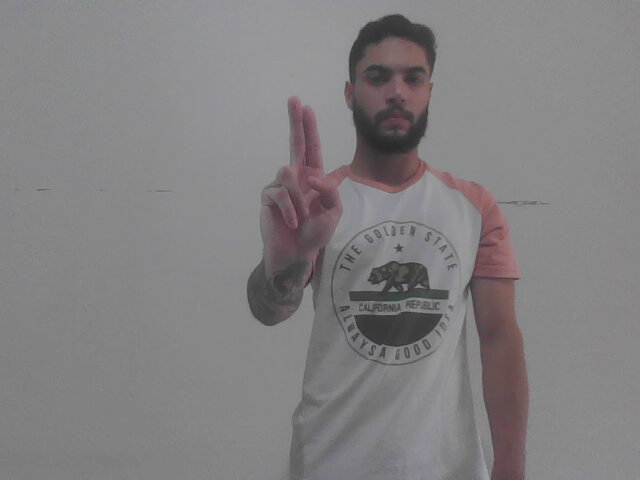u: (254, 93, 344, 264)
